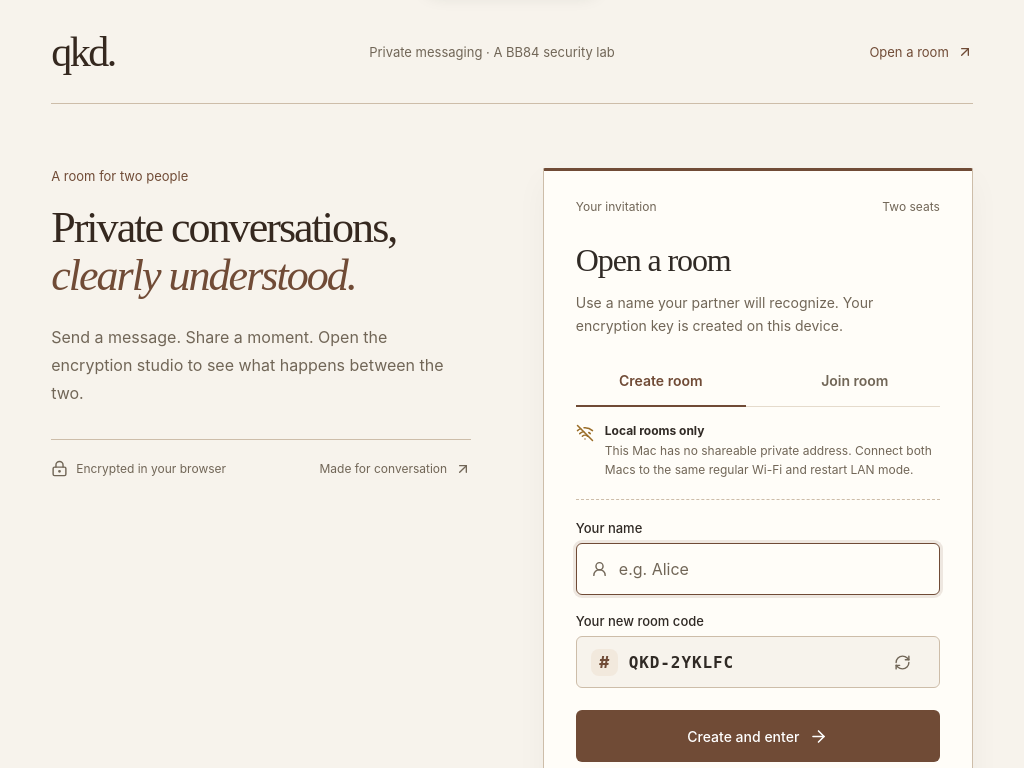
QKD Chat Lab experience › shows friendly, accessible onboarding validation
Expected: the text "Local rooms only" is shown, [605, 423, 704, 438]
Click the button "Create and enter" at (758, 736), box [576, 710, 940, 762]
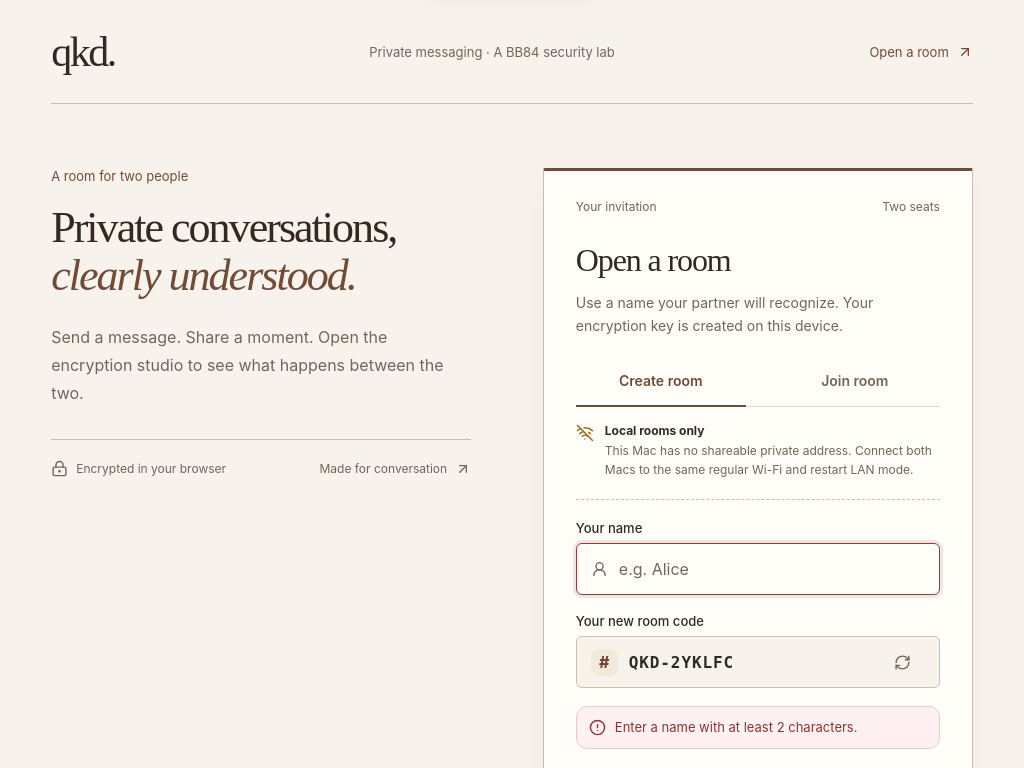
Now the message "Enter a name with at least 2 characters." is shown, box [576, 706, 940, 749]
